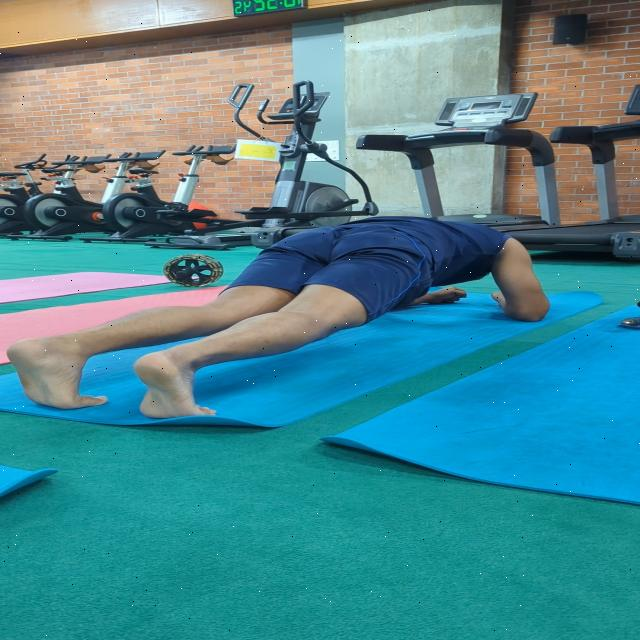Normal_Plunk: (0, 221, 553, 415)
